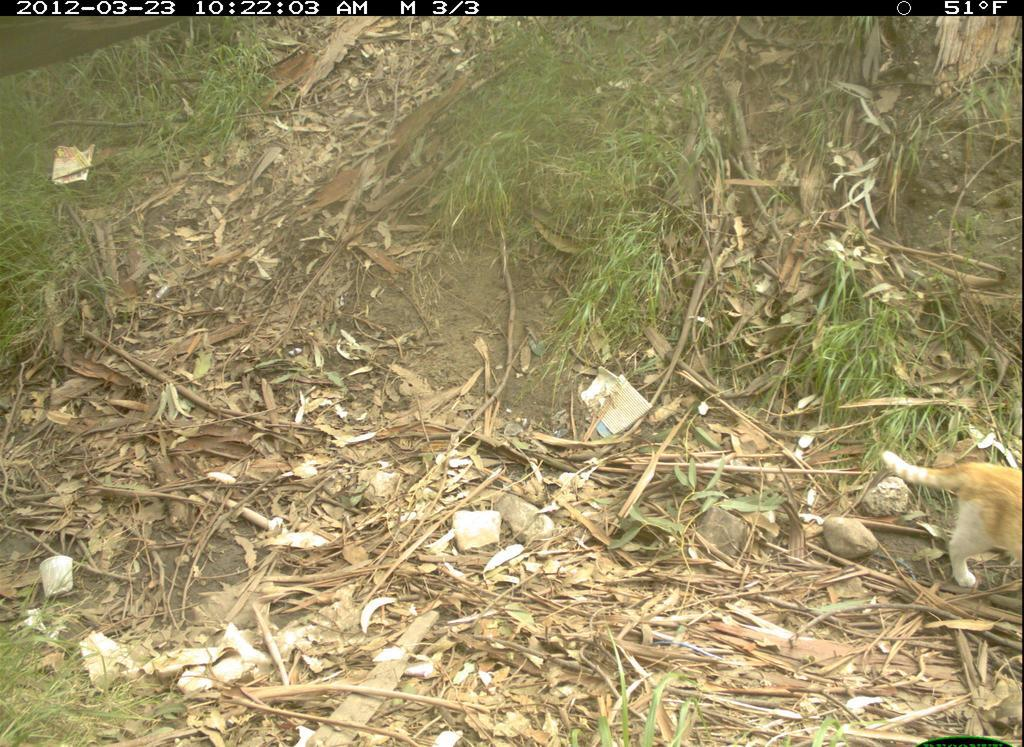cat: (879, 449, 1024, 604)
